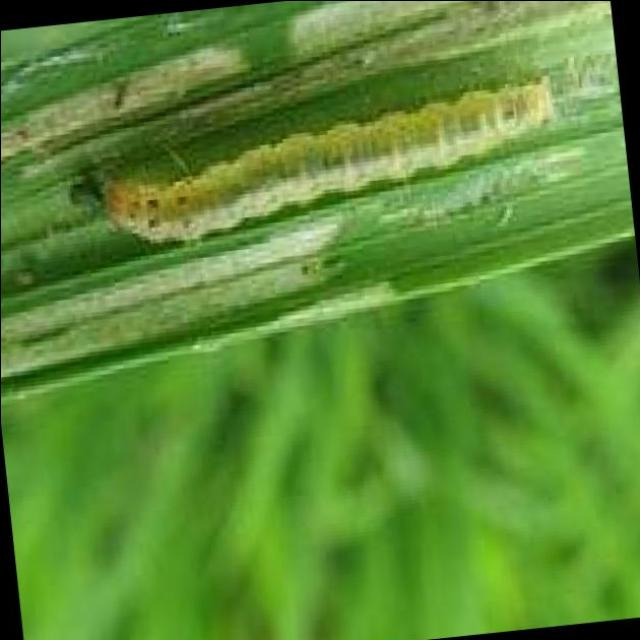leaf folder: (105, 78, 553, 240)
